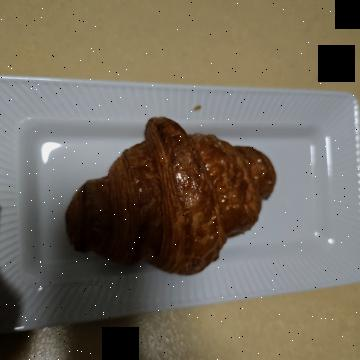croissant: (118, 77, 294, 306)
